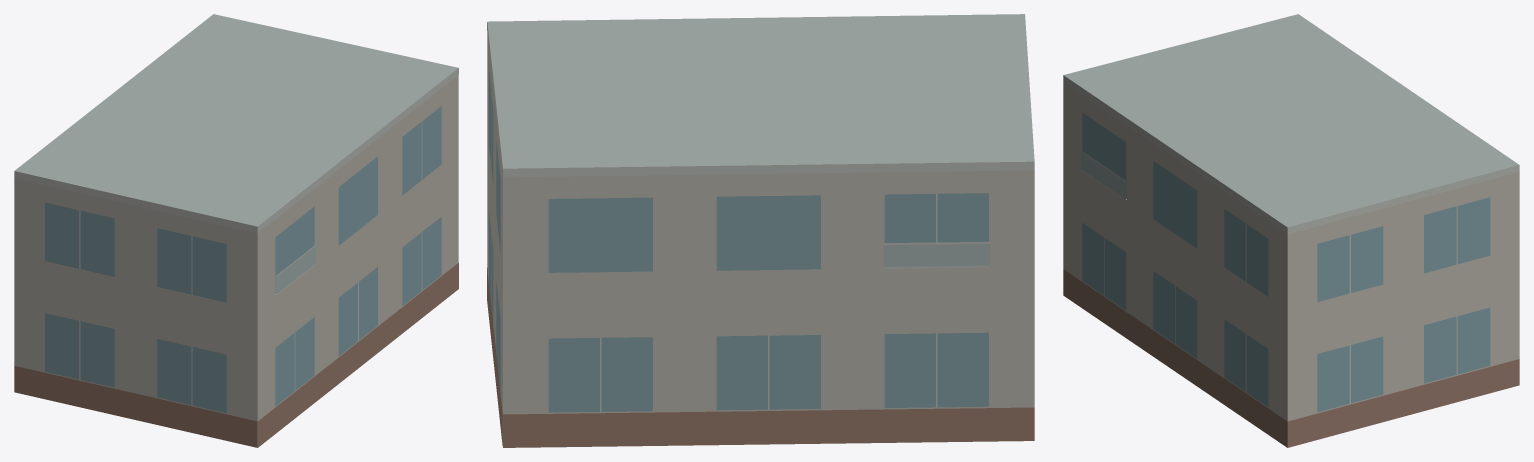
Rendered from survey-upis-33018767.glb.
3 views of the same model, side by side, from view 1: azimuth 30°, elevation 25°; view 2: azimuth 150°, elevation 25°; view 3: azimuth 270°, elevation 25° (orthographic). The views are drawn at different scales.
Visible parts, largest first — view 1: survey-upis-33018767.tmp; view 2: survey-upis-33018767.tmp; view 3: survey-upis-33018767.tmp.
Part boxes in pixels (box(x1,y1,x2,y2)): survey-upis-33018767.tmp: box(14, 14, 458, 447); survey-upis-33018767.tmp: box(487, 14, 1034, 447); survey-upis-33018767.tmp: box(1063, 14, 1519, 447).
Size of the model in its own units: 16.21 by 7.8 by 14.64.
